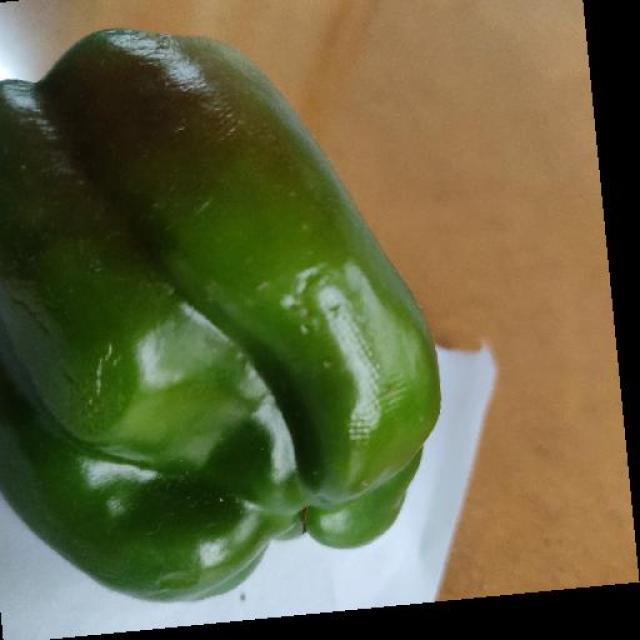Stale_Capsicum: (0, 45, 404, 542)
